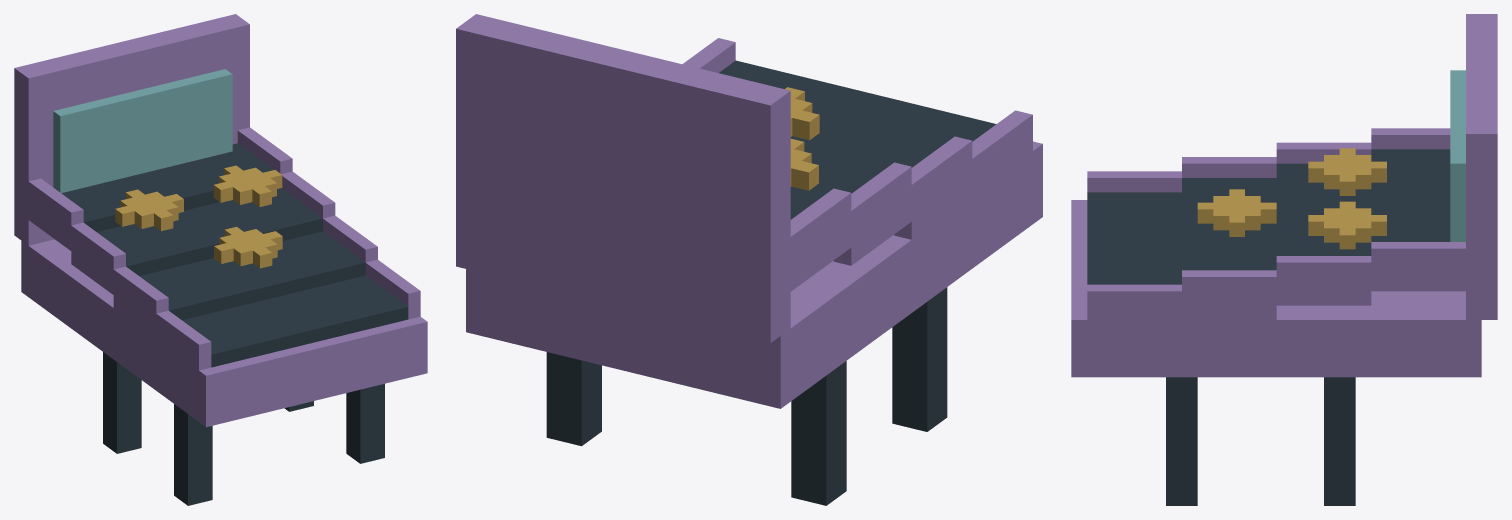
Rendered from games-14.glb.
3 views of the same model, side by side, from view 1: azimuth 30°, elevation 25°; view 2: azimuth 150°, elevation 25°; view 3: azimuth 270°, elevation 25° (orthographic). The views are drawn at different scales.
Visible parts, largest first — view 1: Pinball machine; view 2: Pinball machine; view 3: Pinball machine.
Boxes of the visible parts, bbox=[...] form: Pinball machine: bbox=[14, 14, 427, 505]; Pinball machine: bbox=[456, 14, 1042, 505]; Pinball machine: bbox=[1071, 14, 1497, 505].
Bounding box in the file's own units: 1.44 × 2.08 × 2.16.
